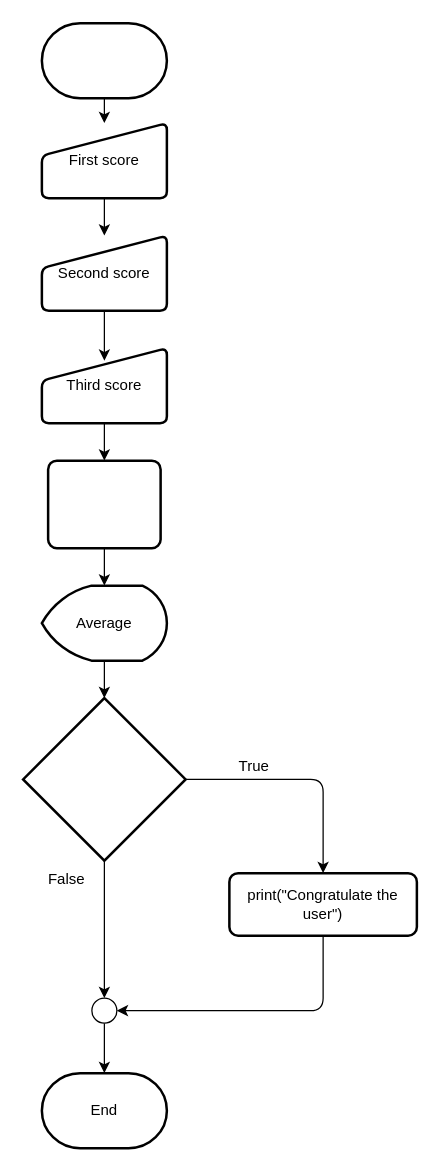
The diagram is 439 pixels wide and 1170 high, and some of its shapes have lost their labels. Here are the shapes that lost their labels. From the top down, the centre of each, then its label:
point (104, 60): Start
point (103, 504): Calculate the average
point (103, 778): If average more than 95
